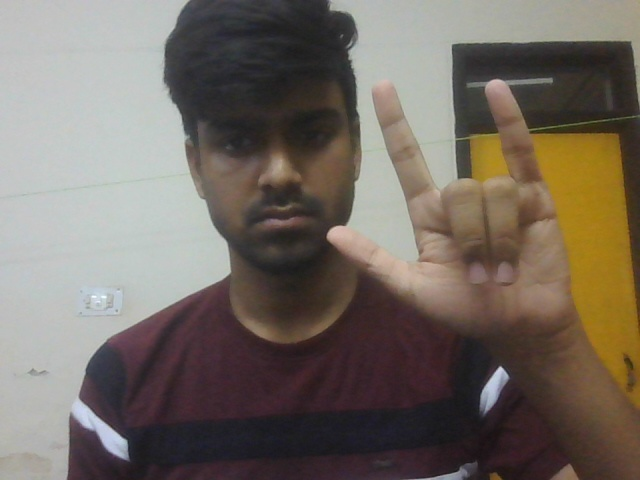iloveyou: (310, 75, 616, 371)
